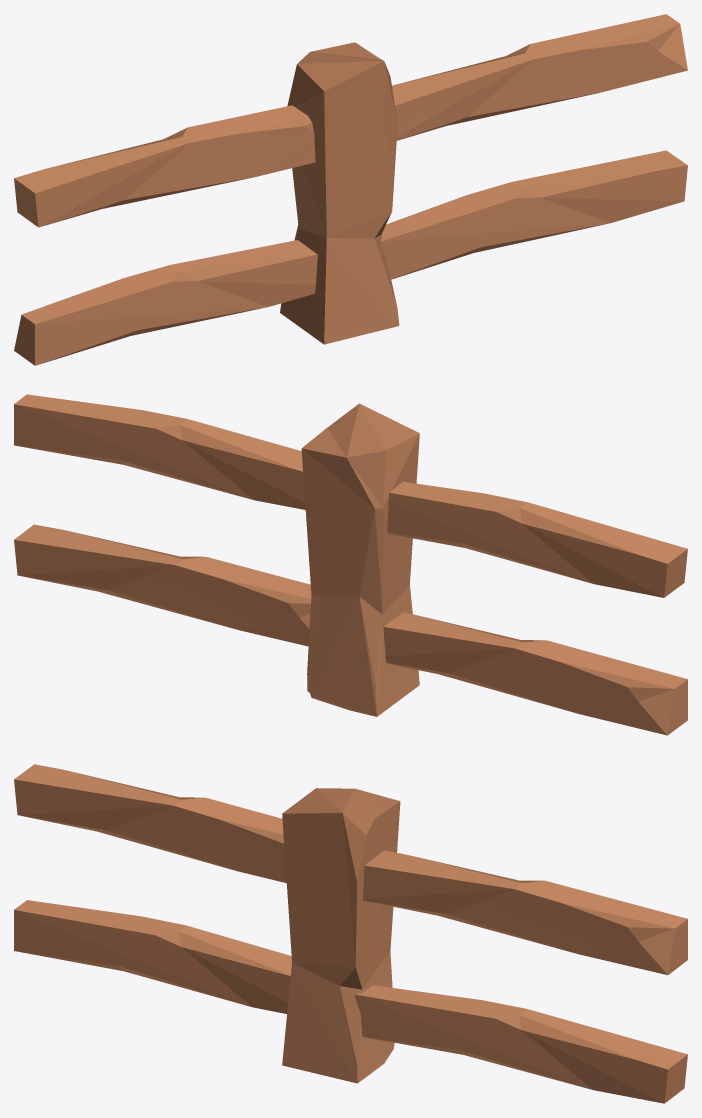
Rendered from Ic_Cit_004.fbx.
3 renders of one model, top to bottom at view 1: azimuth 30°, elevation 25°; view 2: azimuth 150°, elevation 25°; view 3: azimuth 330°, elevation 25°, orthographic.
Parts seen in each view (by area): view 1: Ic_Cit_004; view 2: Ic_Cit_004; view 3: Ic_Cit_004.
Part boxes in pixels (x1=…): Ic_Cit_004: x1=14, y1=14, x2=687, y2=365; Ic_Cit_004: x1=14, y1=394, x2=687, y2=735; Ic_Cit_004: x1=14, y1=764, x2=687, y2=1103.
Size of the model in its own units: 102 by 39.75 by 11.8.
